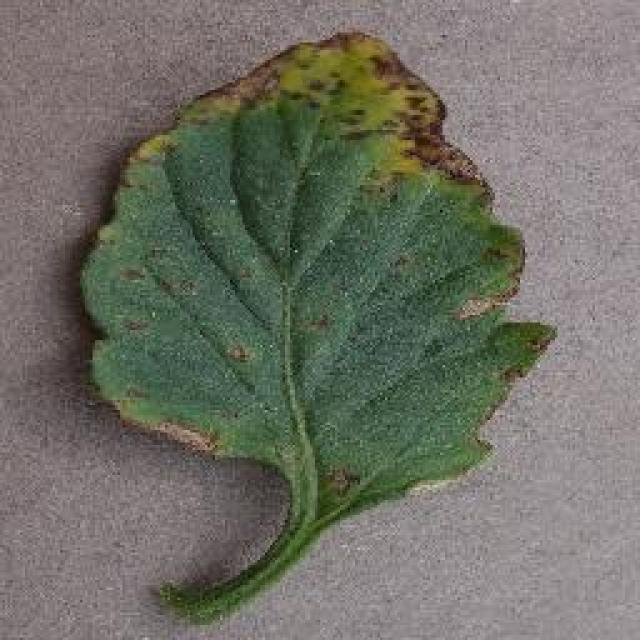Tomato___Bacterial_spot: (81, 31, 556, 626)
